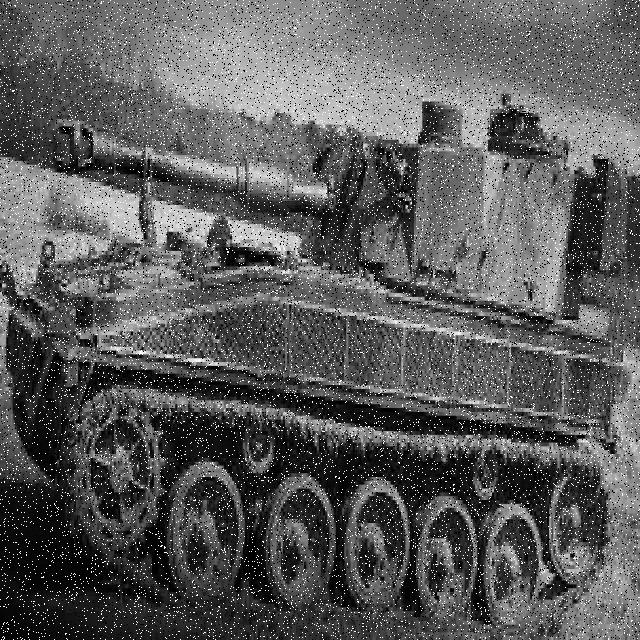MIL_MBT: (73, 28, 626, 613)
